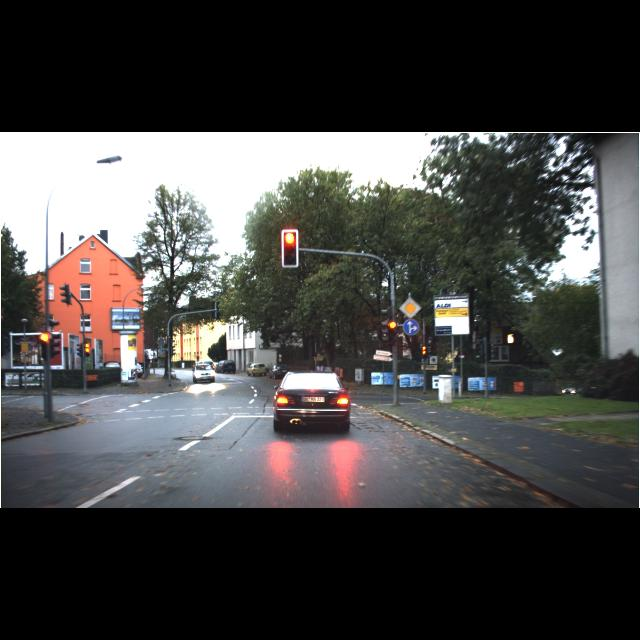mandatory: (403, 319, 419, 335)
other: (398, 297, 422, 319)
